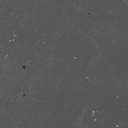corrosion: (21, 64, 27, 71), (21, 92, 27, 98), (91, 110, 97, 116)
